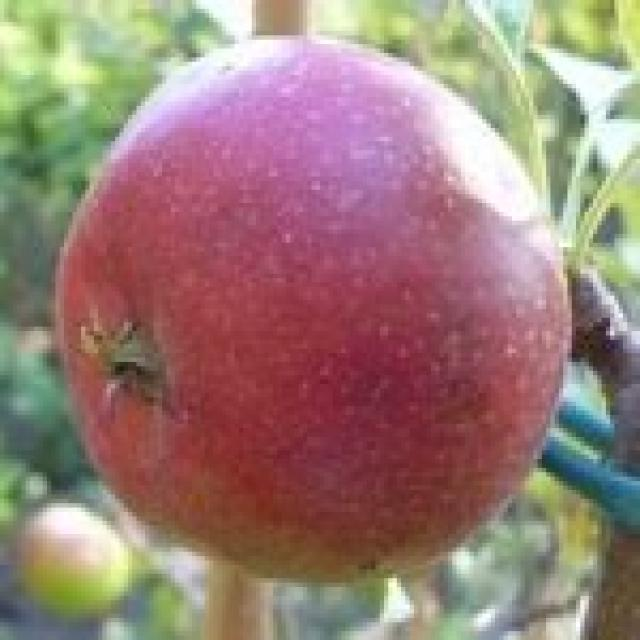apple: (55, 33, 576, 579)
